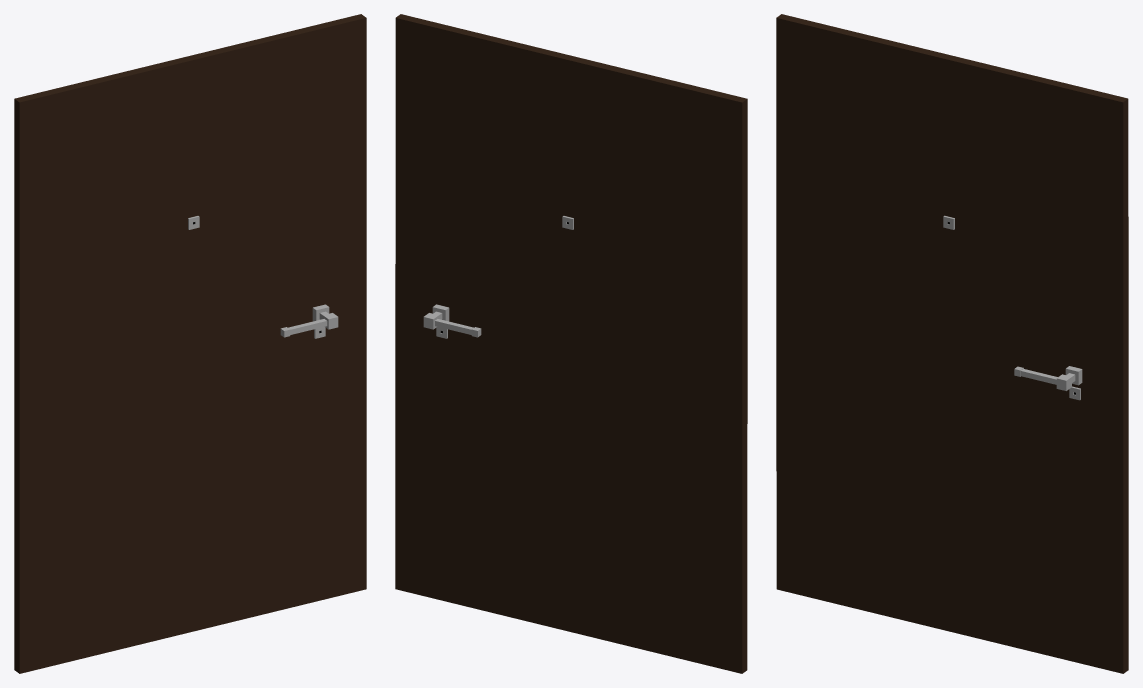
File: doormuzey.fbx
The picture shows the model from 3 angles, left to right: view 1: azimuth 30°, elevation 25°; view 2: azimuth 150°, elevation 25°; view 3: azimuth 330°, elevation 25°; orthographic projection.
Visible parts, largest first — view 1: Cube.002; view 2: Cube.002; view 3: Cube.002.
Boxes of the visible parts, x1=… form: Cube.002: x1=14, y1=14, x2=366, y2=673; Cube.002: x1=395, y1=14, x2=747, y2=673; Cube.002: x1=776, y1=14, x2=1128, y2=673.
Bounding box in the file's own units: 125 × 197 × 21.24.
